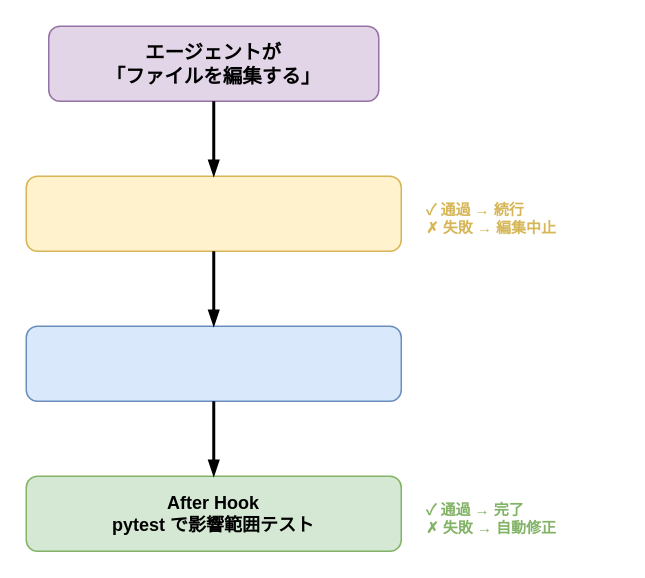
The diagram is 645 pixels wide and 578 high, and some of its shapes have lost their labels. Here are the shapes that lost their labels. From the top down, the centre of each, then its label:
At (x=213, y=213): "Before Hook ruff check で構文チェック".
At (x=213, y=363): "ファイル編集を実行".
